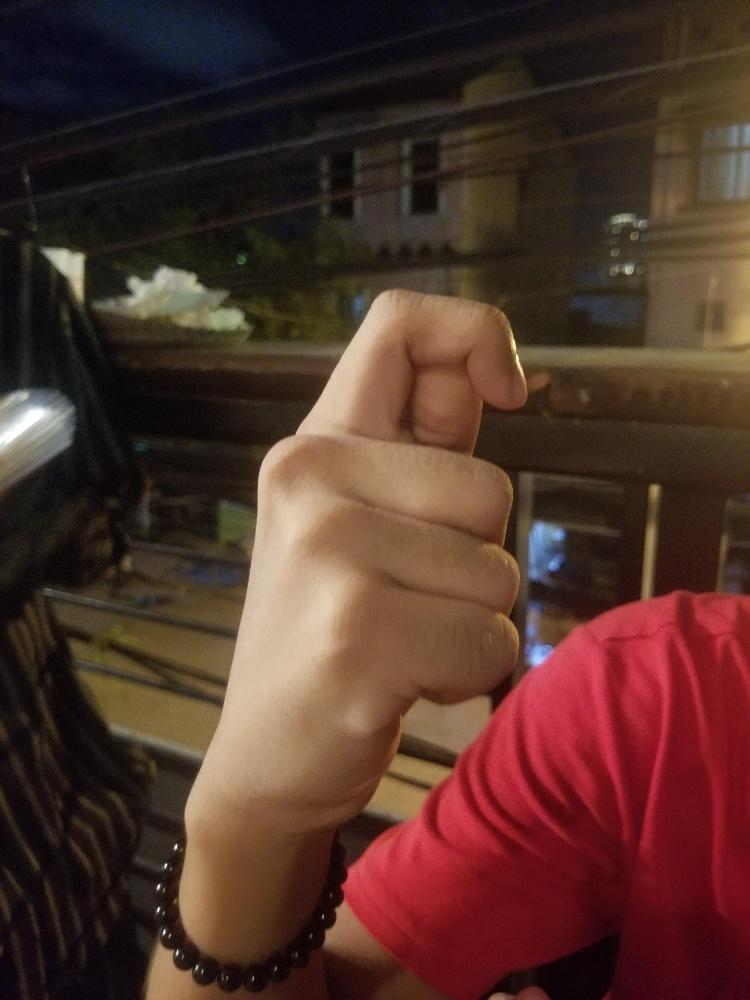t: (245, 287, 530, 779)
